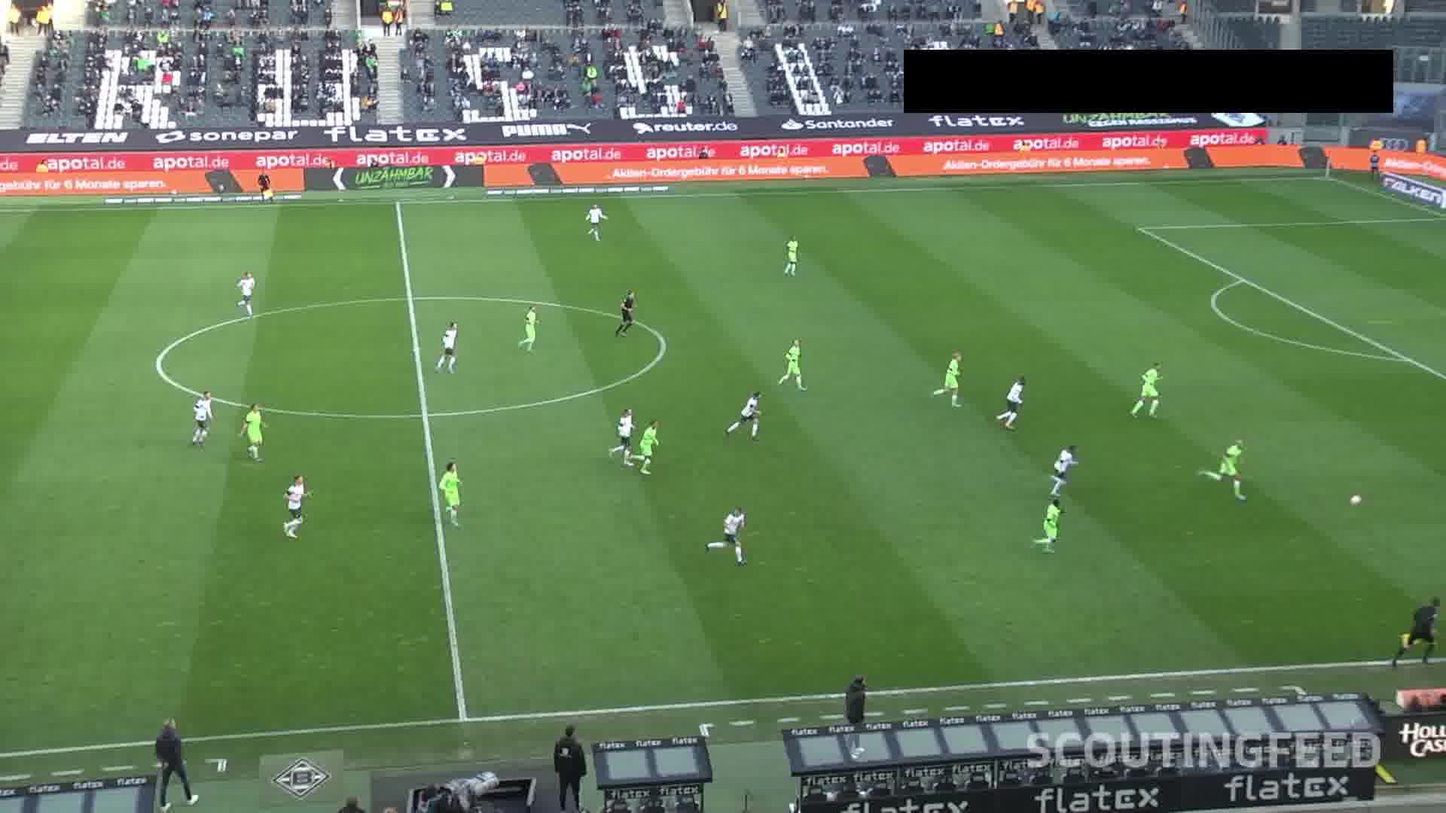ball: (1337, 482, 1364, 509)
coach_staff: (541, 723, 591, 802), (152, 718, 200, 800), (844, 672, 874, 735)
player: (1023, 497, 1071, 555), (709, 503, 752, 566), (1205, 434, 1246, 497), (276, 472, 310, 545), (429, 459, 466, 523), (727, 384, 763, 439), (1043, 442, 1078, 494), (999, 369, 1028, 430), (1132, 364, 1160, 419), (936, 354, 965, 407), (605, 405, 633, 459), (240, 401, 265, 457), (190, 386, 212, 447), (782, 334, 805, 391), (437, 311, 458, 373), (579, 203, 609, 246), (639, 417, 660, 474), (518, 301, 538, 351), (233, 265, 252, 315), (782, 233, 801, 281)
referee: (1390, 591, 1440, 665), (613, 282, 639, 349), (246, 168, 276, 201)
